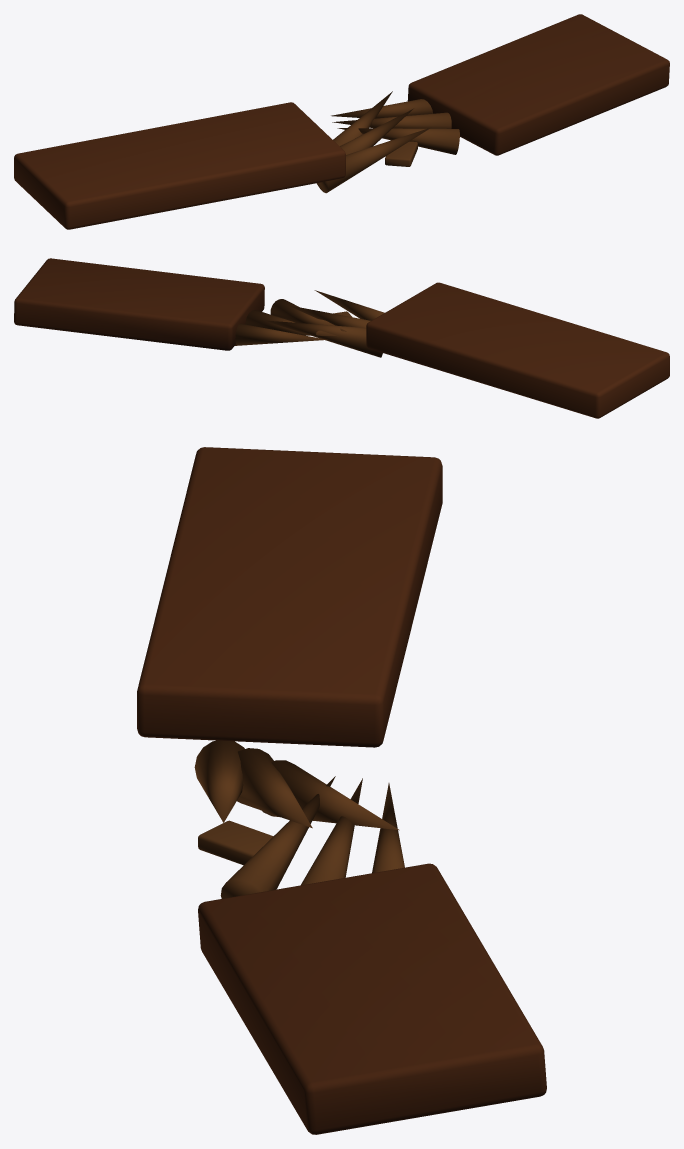
Rendered from broken-plank.obj.
3 views of the same model, one above another, from view 1: azimuth 30°, elevation 25°; view 2: azimuth 150°, elevation 25°; view 3: azimuth 270°, elevation 25° (orthographic). The views are drawn at different scales.
Parts seen in each view (by area): view 1: broken-plank; view 2: broken-plank; view 3: broken-plank.
Part boxes in pixels (x1,y1,x2,y2): broken-plank: (14,14,669,229); broken-plank: (14,258,669,418); broken-plank: (137,447,546,1134).
Bounding box in the file's own units: 1.66 × 0.1497 × 0.4957.
